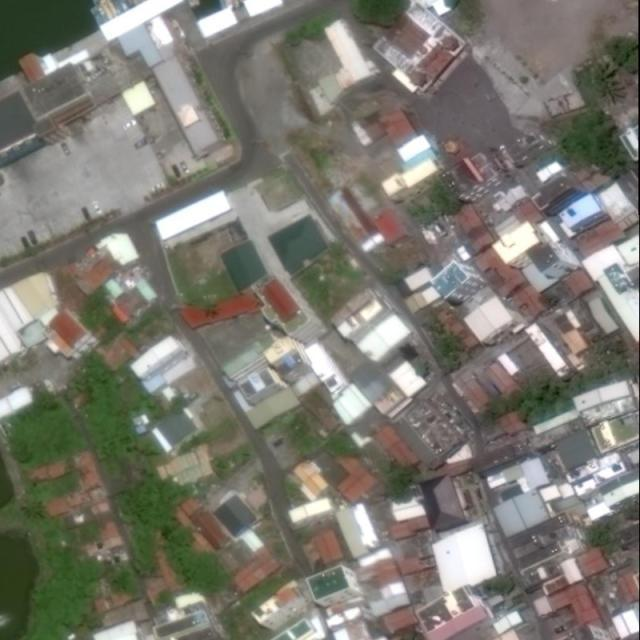vehicle: (27, 230, 38, 246), (19, 236, 30, 250), (133, 139, 148, 149), (123, 120, 136, 130), (82, 206, 90, 222), (62, 142, 70, 157), (92, 201, 102, 213), (180, 161, 189, 174), (173, 165, 181, 178)
